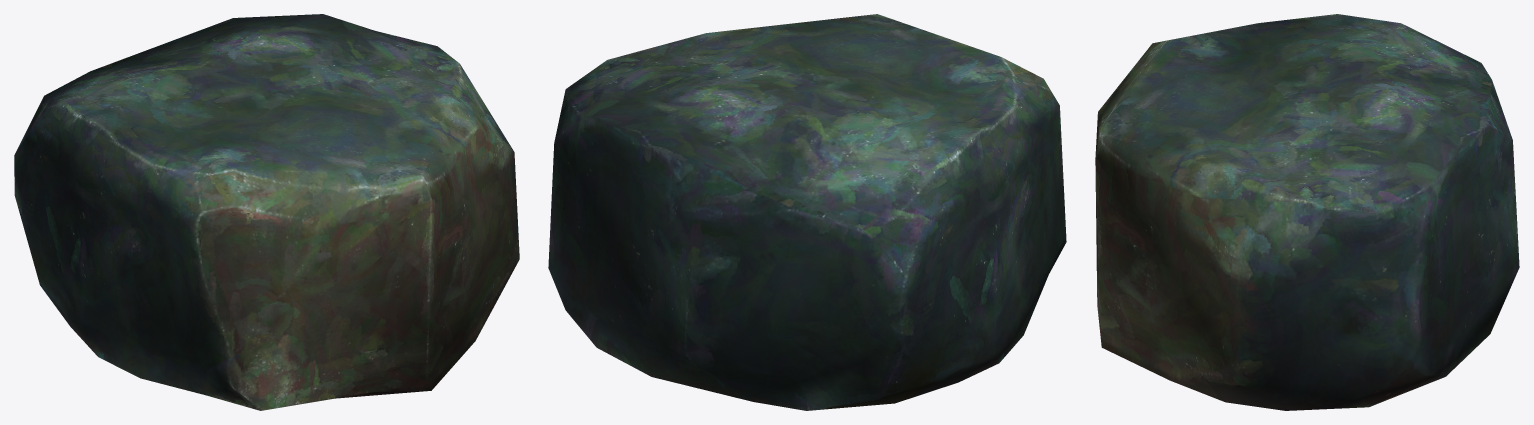
Rendered from tinyrock5.fbx.
3 views of the same model, side by side, from view 1: azimuth 30°, elevation 25°; view 2: azimuth 150°, elevation 25°; view 3: azimuth 270°, elevation 25° (orthographic). The views are drawn at different scales.
Visible parts, largest first — view 1: tinyrocks_4; view 2: tinyrocks_4; view 3: tinyrocks_4.
Boxes of the visible parts, <box> form: tinyrocks_4: <box>14,14,519,410</box>; tinyrocks_4: <box>548,14,1066,410</box>; tinyrocks_4: <box>1095,14,1519,410</box>.
Bounding box in the file's own units: 198 × 119 × 189.
